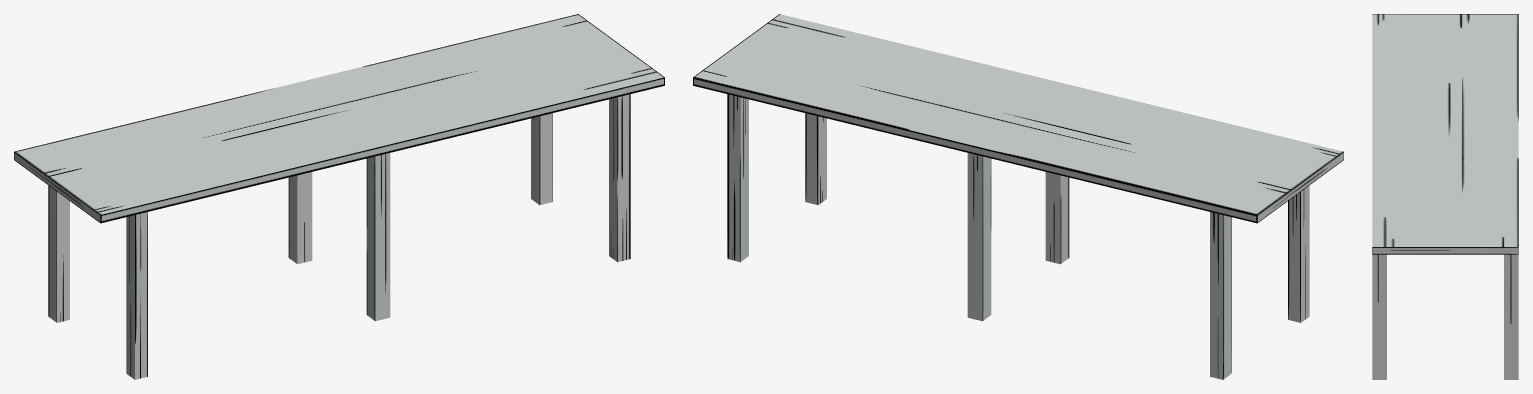
File: labtable.fbx
3 views of the same model, side by side, from view 1: azimuth 30°, elevation 25°; view 2: azimuth 150°, elevation 25°; view 3: azimuth 270°, elevation 25° (orthographic). The views are drawn at different scales.
Visible parts, largest first — view 1: labtable; view 2: labtable; view 3: labtable.
Part boxes in pixels (x1,y1,x2,y2): labtable: (14, 14, 664, 379); labtable: (693, 14, 1343, 379); labtable: (1372, 14, 1518, 379).
Bounding box in the file's own units: 3.58 × 1.05 × 0.9508.
Materials: 1 (1 with a texture image).
